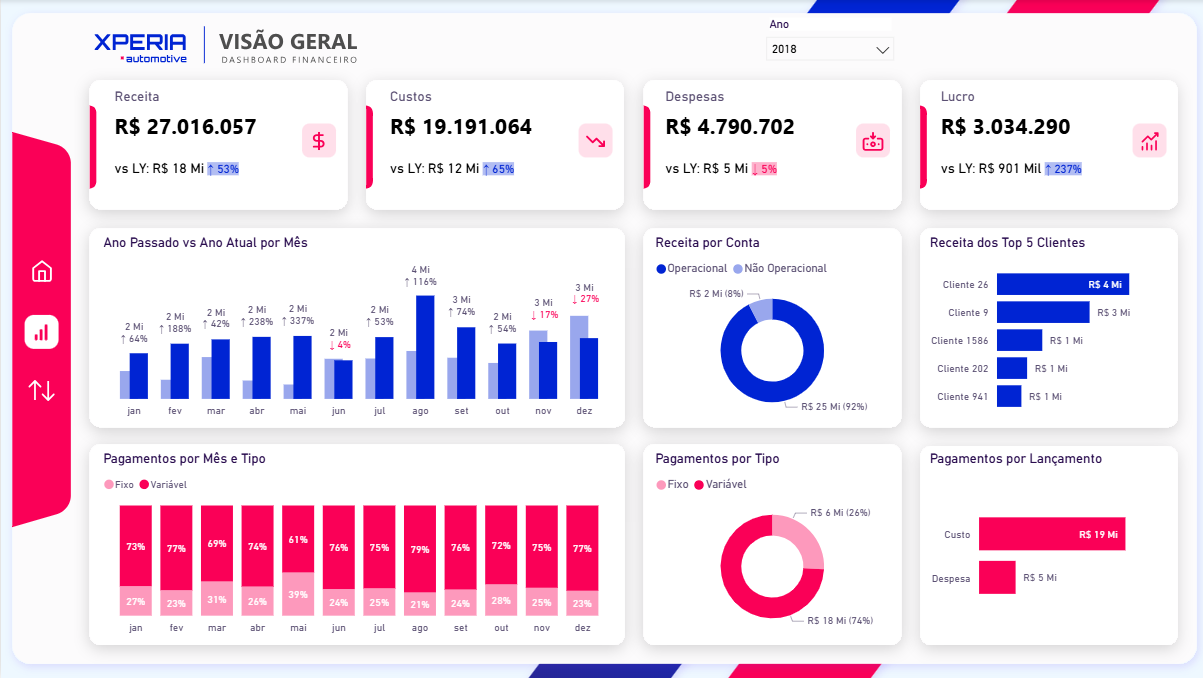

Layout of this report page (visuals, bound fields, positions):
{"tool":"powerbi","page":{"name":"Dashboard","canvas":[1280,720],"ordinal":0},"visuals":[{"type":"lineClusteredColumnComboChart","title":"Ano Passado vs Ano Atual por Mês","fields":{"Category":["dCalendario.Mês"],"Y":["Medidas.Receita LY","Medidas.Receita"],"Y2":["Medidas.Linha Visual"]},"box":[103.3,249.2,552.5,200],"z":0},{"type":"slicer","fields":{"Values":["dCalendario.Ano"]},"box":[802.1,14.4,155.5,69.1],"z":1000},{"type":"cardVisual","fields":{"Data":["Medidas.Receita","Medidas.Custos","Medidas.Despesas","Medidas.Lucro"]},"box":[103.7,83.5,1144.8,141.1],"z":2000},{"type":"donutChart","fields":{"Y":["Medidas.Receita"],"Category":["dPlanoContas.conta"]},"box":[688.3,249.1,257.8,200.2],"z":3000},{"type":"barChart","title":"Receita dos Top 5 Clientes","fields":{"Category":["fRecebimentos.cliente"],"Y":["Medidas.Receita"]},"box":[979.2,249.1,257.8,200.2],"z":4000},{"type":"hundredPercentStackedColumnChart","fields":{"Category":["dCalendario.Mês"],"Y":["Medidas.Pagamentos"],"Series":["dPlanoContas.tipo"]},"box":[103.3,479.2,552.5,200.8],"z":5000},{"type":"donutChart","fields":{"Y":["Medidas.Pagamentos"],"Category":["dPlanoContas.tipo"]},"box":[688.3,479.5,257.8,200.2],"z":6000},{"type":"clusteredBarChart","title":"Pagamentos por Lançamento","fields":{"Y":["Medidas.Pagamentos"],"Category":["dPlanoContas.lancamento"]},"box":[979.2,478.1,257.8,200.2],"z":7000}]}

Visuals, with their boxes in screenshot pixels (x1, y1, x2, y2), scaled from the page's 1280x720 canvas onto the 1203x678 screenshot:
"Ano Passado vs Ano Atual por Mês" lineClusteredColumnComboChart: select_region(97, 235, 616, 423)
slicer - dCalendario.Ano: select_region(754, 14, 900, 79)
cardVisual - Medidas.Receita x Medidas.Custos: select_region(97, 79, 1173, 211)
donutChart - Medidas.Receita x dPlanoContas.conta: select_region(647, 235, 889, 423)
"Receita dos Top 5 Clientes" barChart: select_region(920, 235, 1163, 423)
hundredPercentStackedColumnChart - dCalendario.Mês x Medidas.Pagamentos: select_region(97, 451, 616, 640)
donutChart - Medidas.Pagamentos x dPlanoContas.tipo: select_region(647, 452, 889, 640)
"Pagamentos por Lançamento" clusteredBarChart: select_region(920, 450, 1163, 639)
